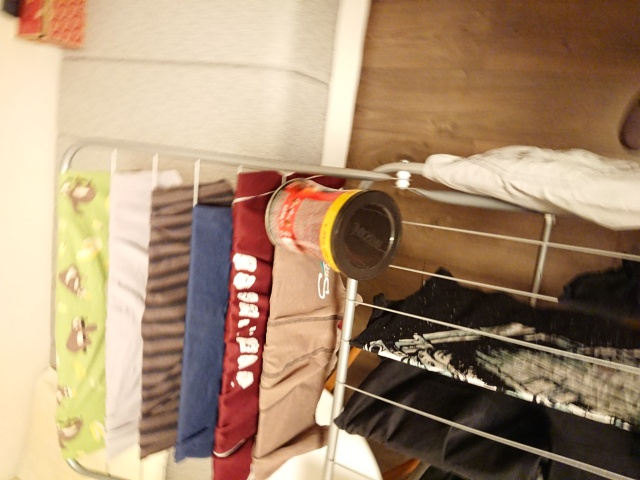Nescafe Classic 225g: (261, 175, 406, 284)
